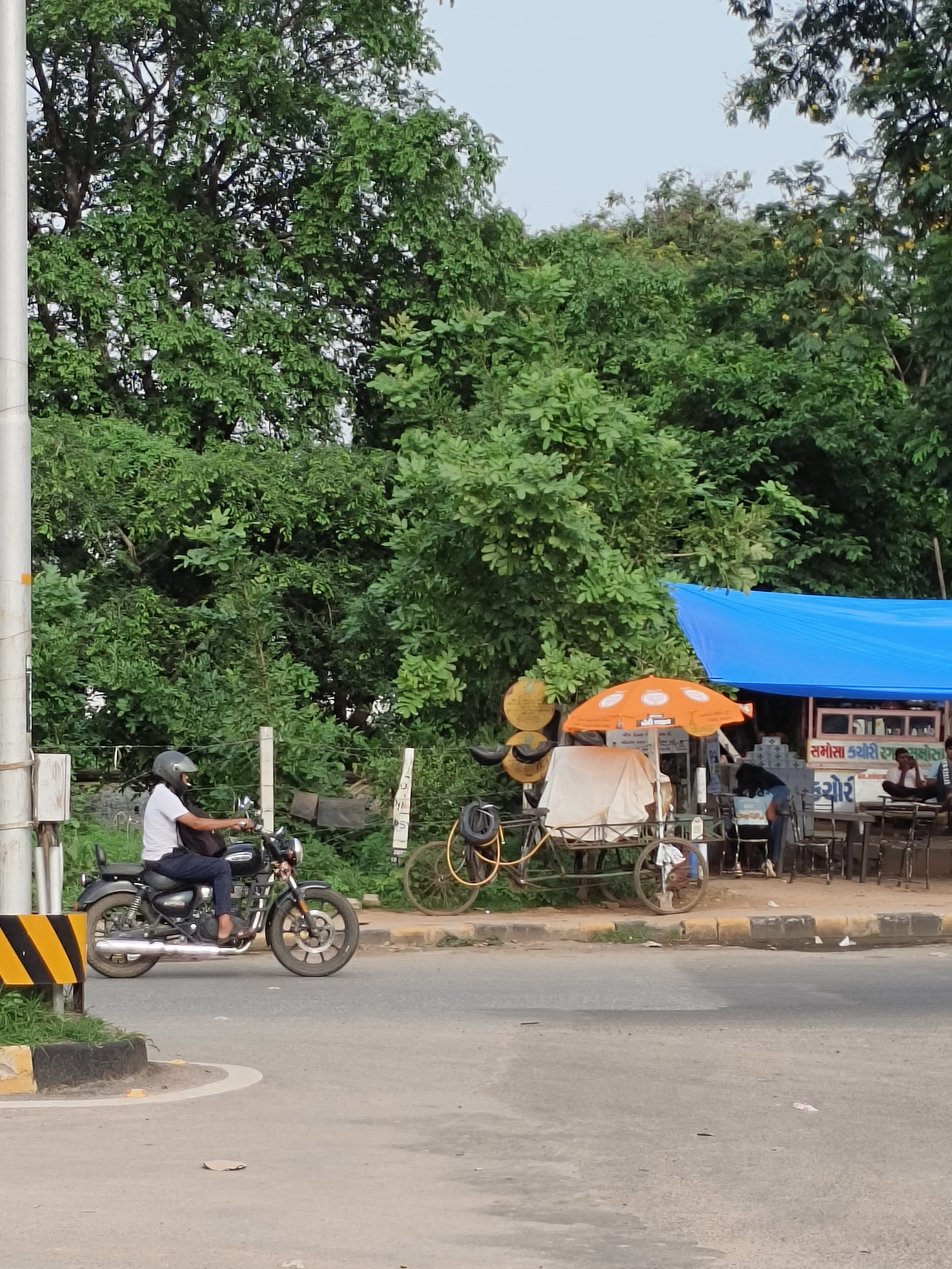BikeWithRider: (64, 742, 371, 986)
Helmet: (145, 744, 205, 795)
